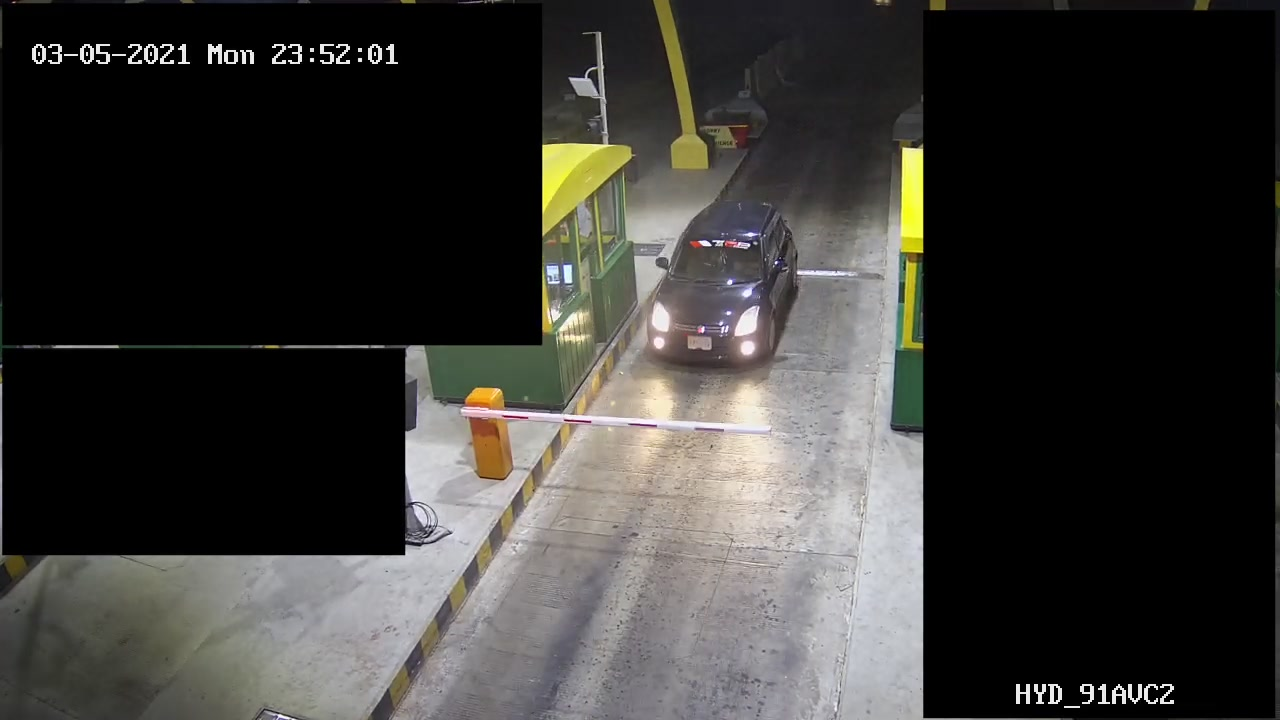F1: (638, 196, 810, 385)
